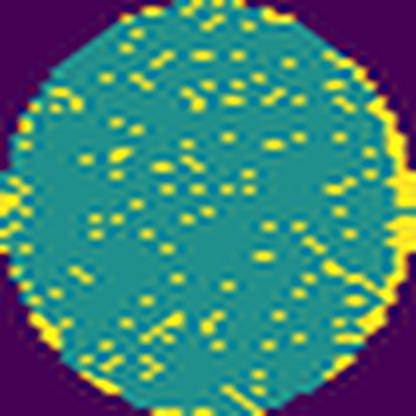Edge-Loc: (334, 214, 415, 346), (362, 95, 415, 210)
